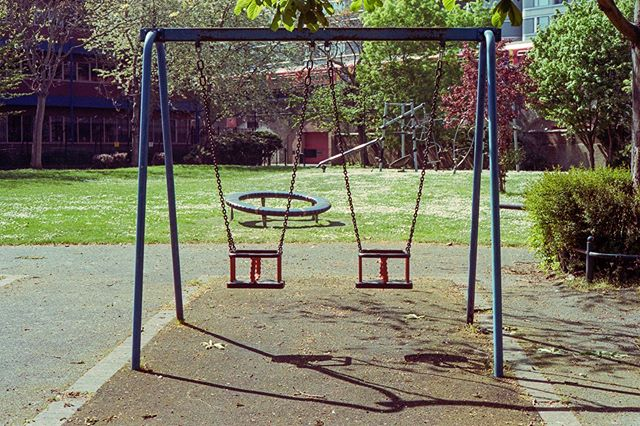bench: (224, 183, 334, 230)
building: (1, 1, 217, 162)
grass: (1, 163, 535, 243)
tree: (120, 1, 304, 169), (337, 3, 508, 165), (1, 1, 117, 162), (528, 1, 637, 165)
